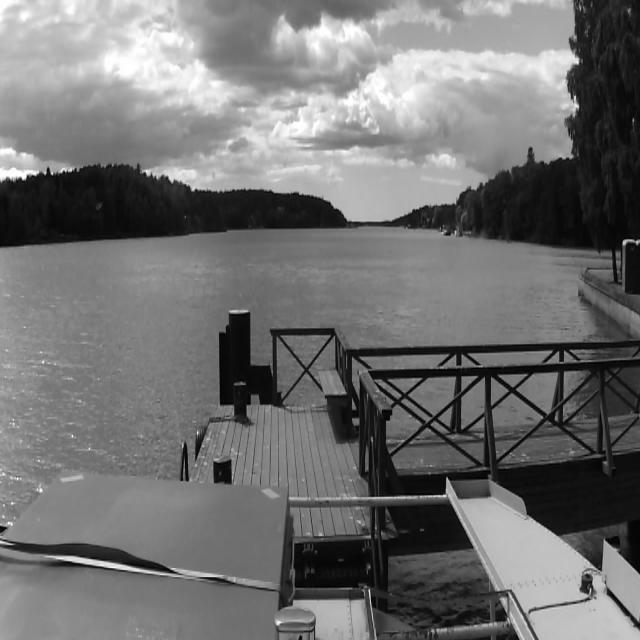ship: (442, 225, 452, 234)
